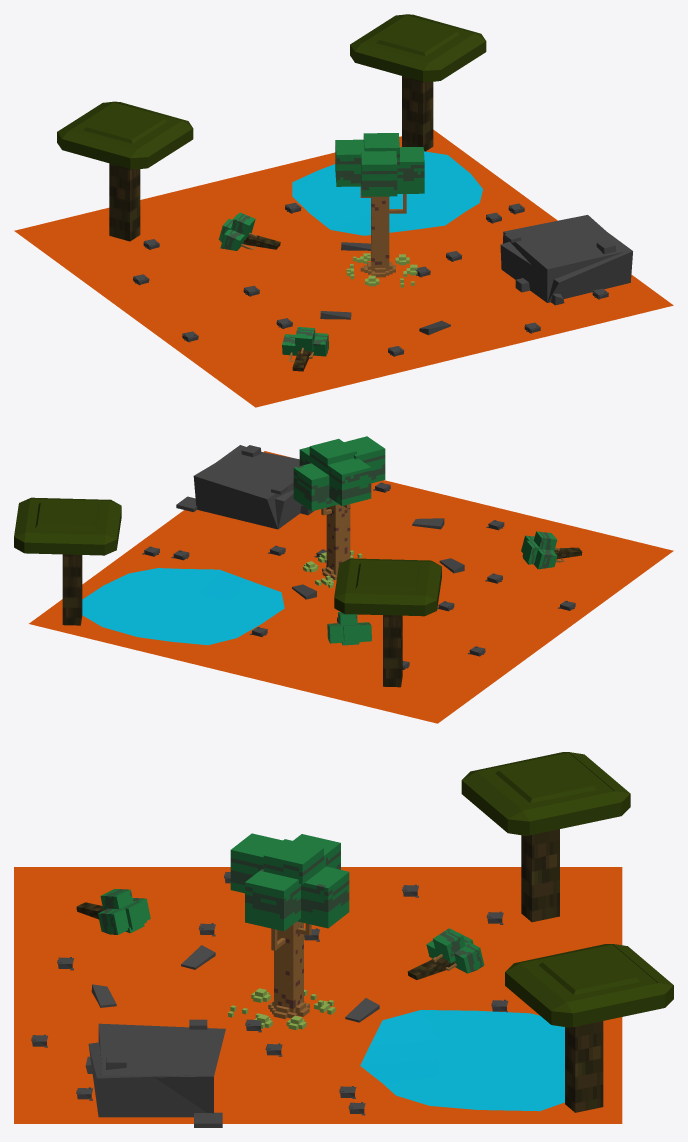
The model's file is center_right.gltf.
3 views of the same model, one above another, from view 1: azimuth 30°, elevation 25°; view 2: azimuth 150°, elevation 25°; view 3: azimuth 270°, elevation 25° (orthographic). The views are drawn at different scales.
Visible parts, largest first — view 1: MR, Cube.205, pond.001, TREE 02.002, Cube.201, Cube.203, Cube.202, Cube.204, Trunt_top.003, Trunt_top.004; view 2: MR, pond.001, TREE 02.002, Cube.205, Cube.201, Cube.203, Cube.204, Cube.202, Trunt_top.003, Trunt_top.004; view 3: MR, pond.001, TREE 02.002, Cube.205, Cube.201, Cube.203, Cube.202, Cube.204, Trunt_top.004, Trunt_top.003.
Boxes of the visible parts, x1,y1,x2,y2 form: MR: [14, 129, 673, 407]; Cube.205: [500, 215, 632, 305]; pond.001: [292, 151, 482, 235]; TREE 02.002: [335, 133, 424, 287]; Cube.201: [57, 101, 193, 169]; Cube.203: [350, 14, 486, 82]; Cube.202: [109, 163, 140, 241]; Cube.204: [402, 76, 433, 151]; Trunt_top.003: [282, 327, 328, 371]; Trunt_top.004: [218, 212, 280, 250]; MR: [29, 451, 673, 723]; pond.001: [82, 568, 284, 645]; TREE 02.002: [293, 436, 385, 587]; Cube.205: [176, 445, 313, 529]; Cube.201: [334, 558, 441, 616]; Cube.203: [14, 497, 121, 555]; Cube.204: [62, 554, 82, 625]; Cube.202: [383, 615, 402, 687]; Trunt_top.003: [521, 531, 582, 569]; Trunt_top.004: [327, 612, 371, 645]; MR: [14, 867, 622, 1123]; pond.001: [360, 1010, 564, 1111]; TREE 02.002: [228, 833, 349, 1030]; Cube.205: [85, 1019, 225, 1127]; Cube.201: [461, 752, 630, 835]; Cube.203: [505, 944, 673, 1027]; Cube.202: [521, 829, 559, 922]; Cube.204: [565, 1021, 603, 1112]; Trunt_top.004: [407, 928, 484, 979]; Trunt_top.003: [76, 889, 150, 934].
Size of the model in its own units: 236 by 72.23 by 239.
9 materials, 3 textured.
